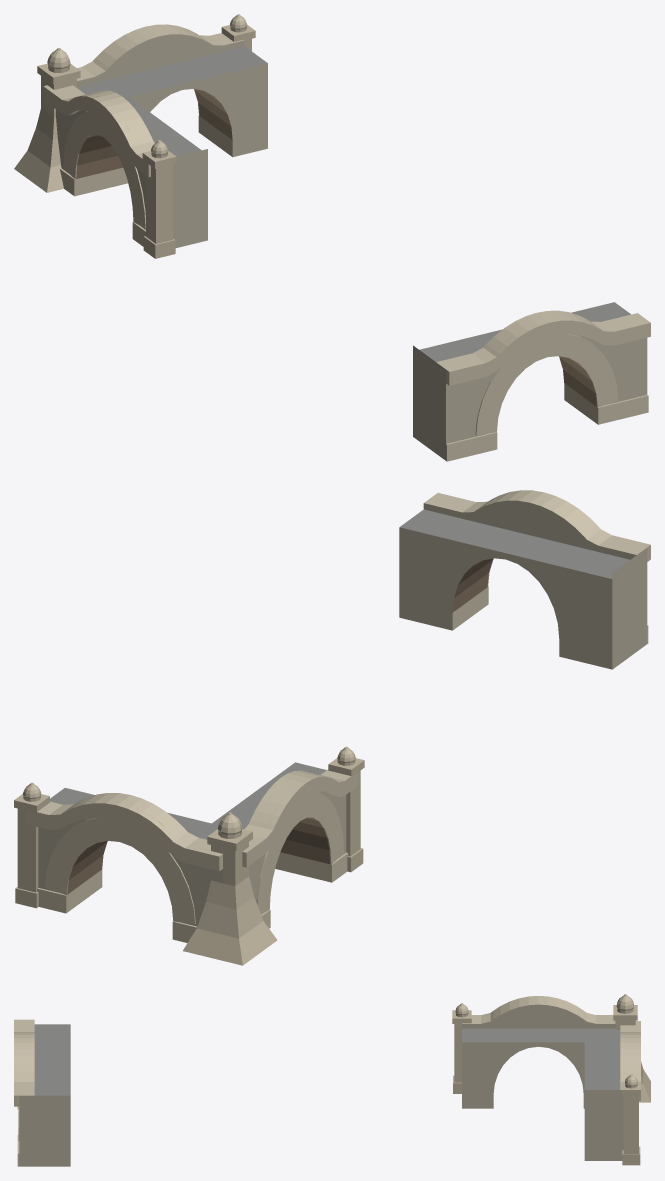
The model's file is nyc-meadowport-arch.glb.
3 renders of one model, top to bottom at view 1: azimuth 30°, elevation 25°; view 2: azimuth 150°, elevation 25°; view 3: azimuth 270°, elevation 25°, orthographic. The views are drawn at different scales.
Parts seen in each view (by area): view 1: Meadowport Arch; view 2: Meadowport Arch; view 3: Meadowport Arch.
Boxes of the visible parts, x1,y1,x2,y2 form: Meadowport Arch: (14,14,650,461); Meadowport Arch: (14,490,650,965); Meadowport Arch: (14,994,650,1166).
Size of the model in its own units: 11.9 by 6.3 by 37.42.
